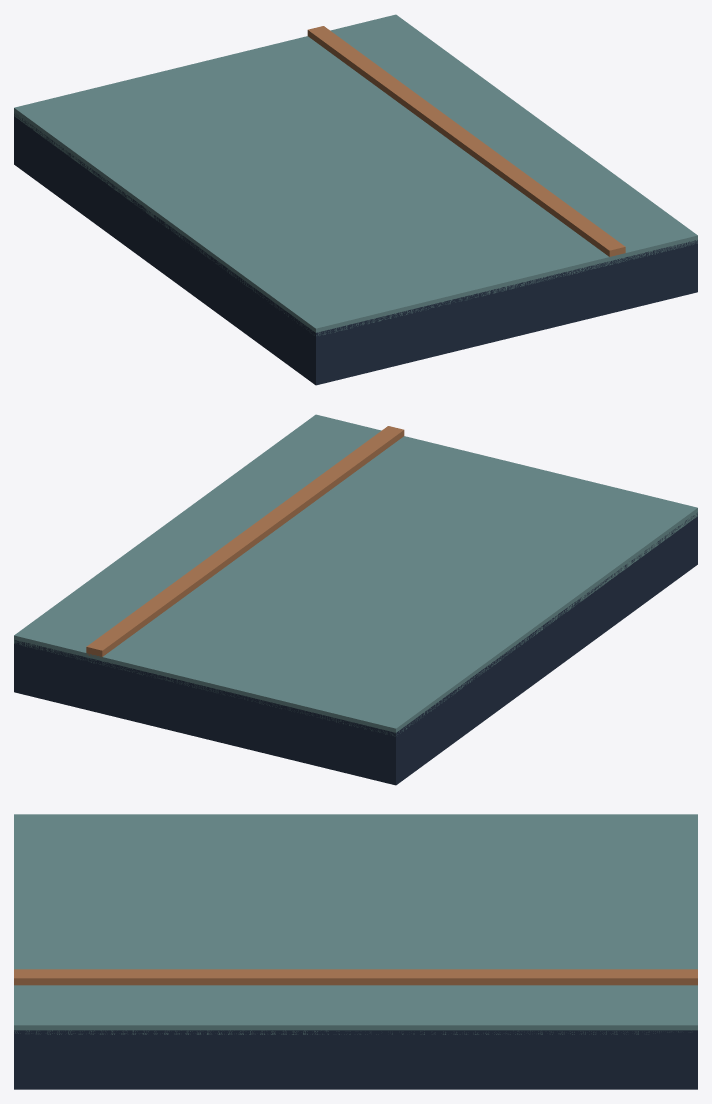
The model's file is officeNotebook.glb.
3 renders of one model, top to bottom at view 1: azimuth 30°, elevation 25°; view 2: azimuth 150°, elevation 25°; view 3: azimuth 270°, elevation 25°, orthographic. The views are drawn at different scales.
Size of the model in its own units: 0.19 by 0.03 by 0.26.
